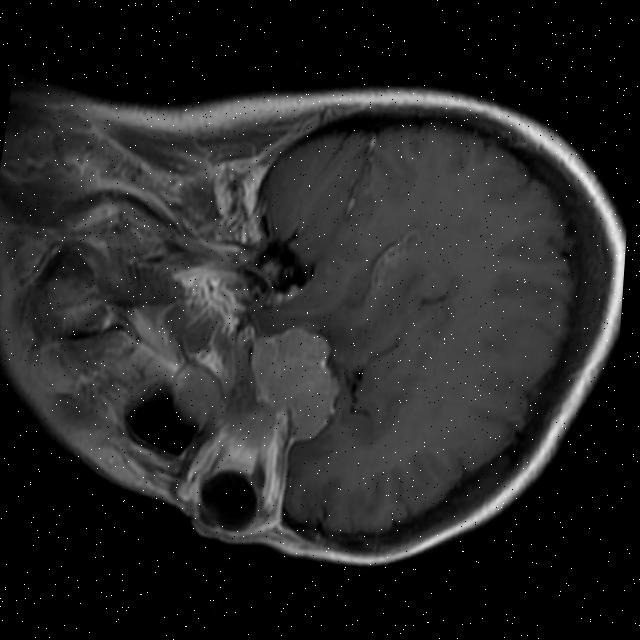Meningioma: (237, 317, 351, 448)
